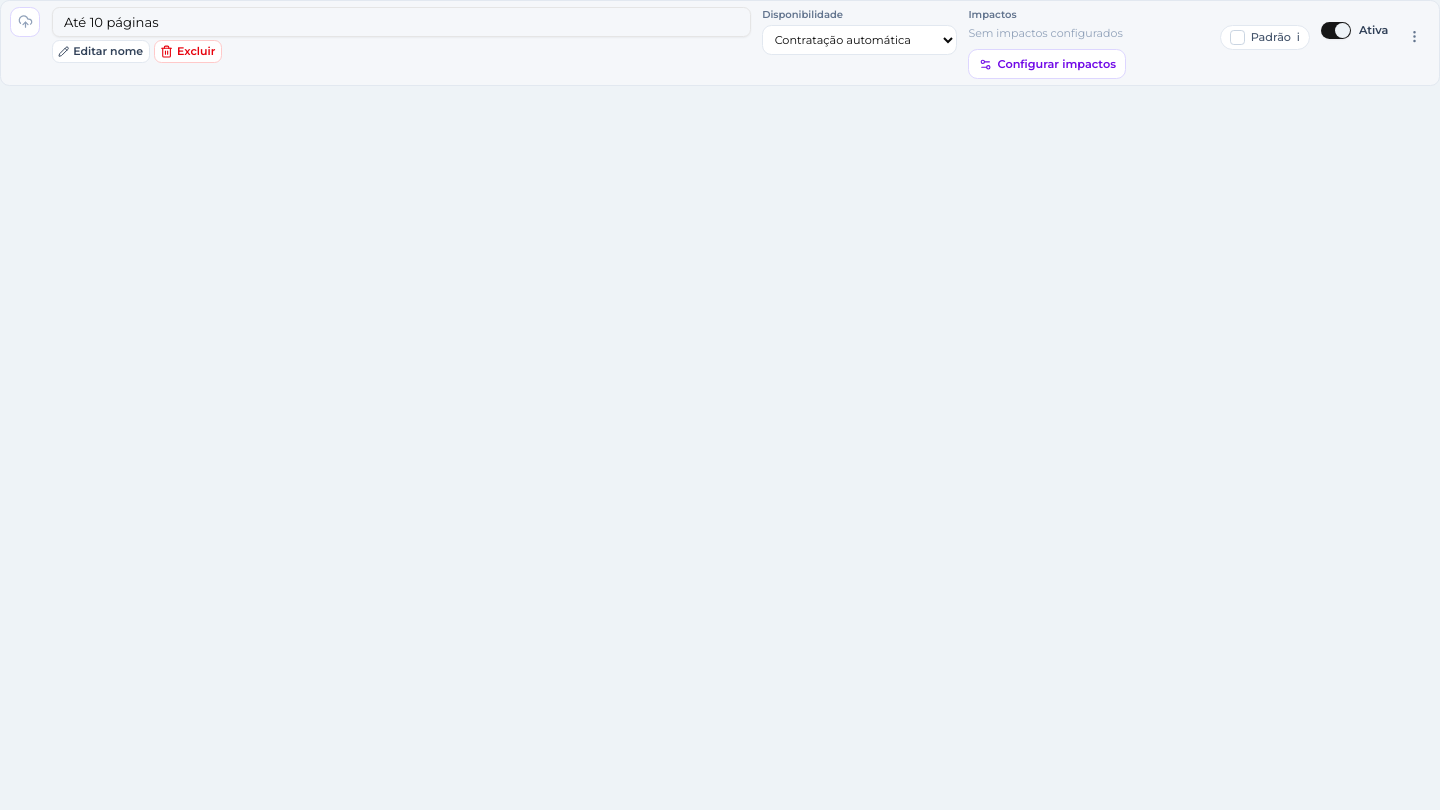
impactos da opção — preço e prazo editáveis a partir do resumo › clicar em Prazo abre a área de impactos com 'Adicionar dias ao prazo' escolhido; salvar grava o impacto da opção
Later steps or results of the test are not shown.
Click the button with test id "option-detail-toggle" at (1047, 64), box top-left (968, 49), bottom-right (1126, 79)
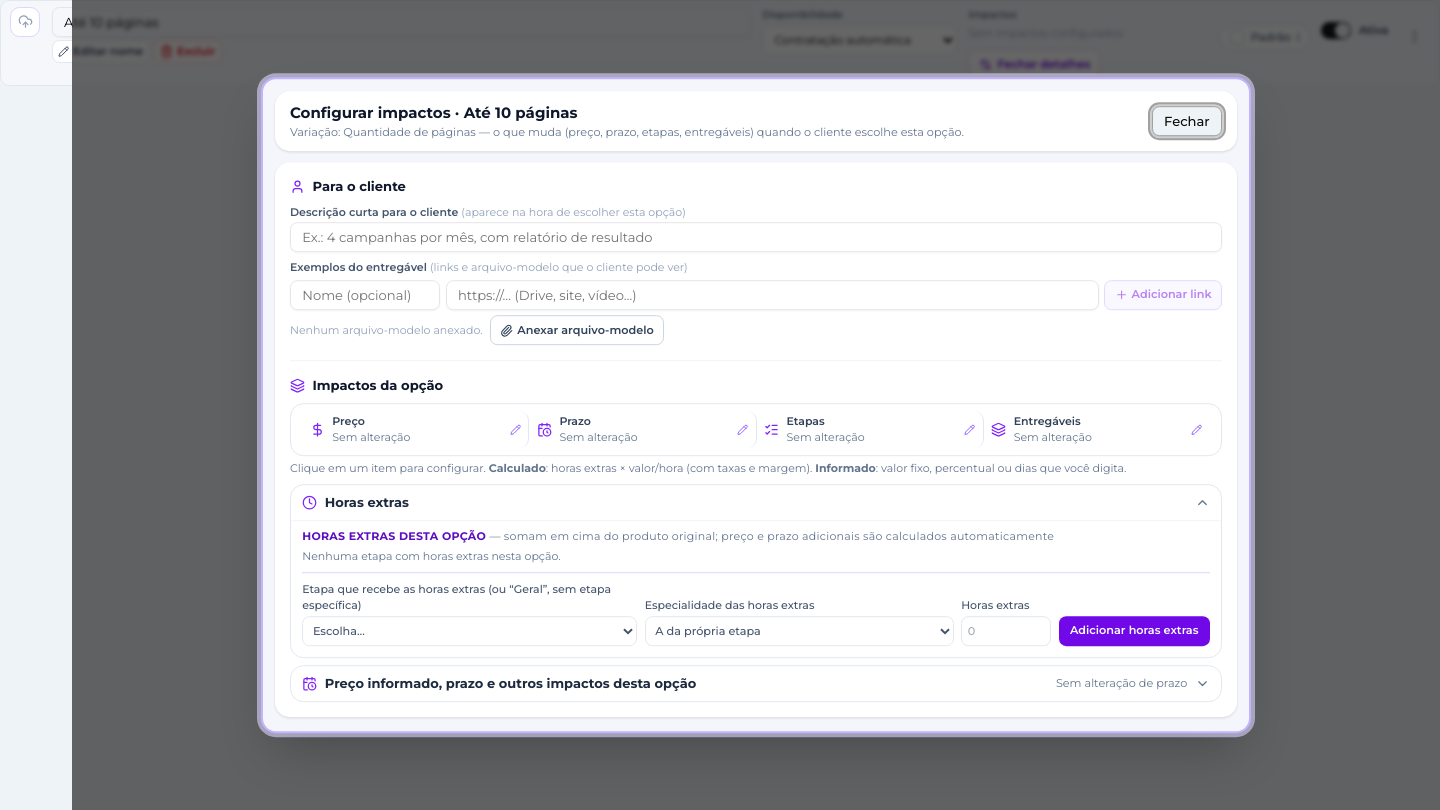
Click the button with test id "impact-pick-deadline" at (643, 430), box top-left (529, 411), bottom-right (756, 448)
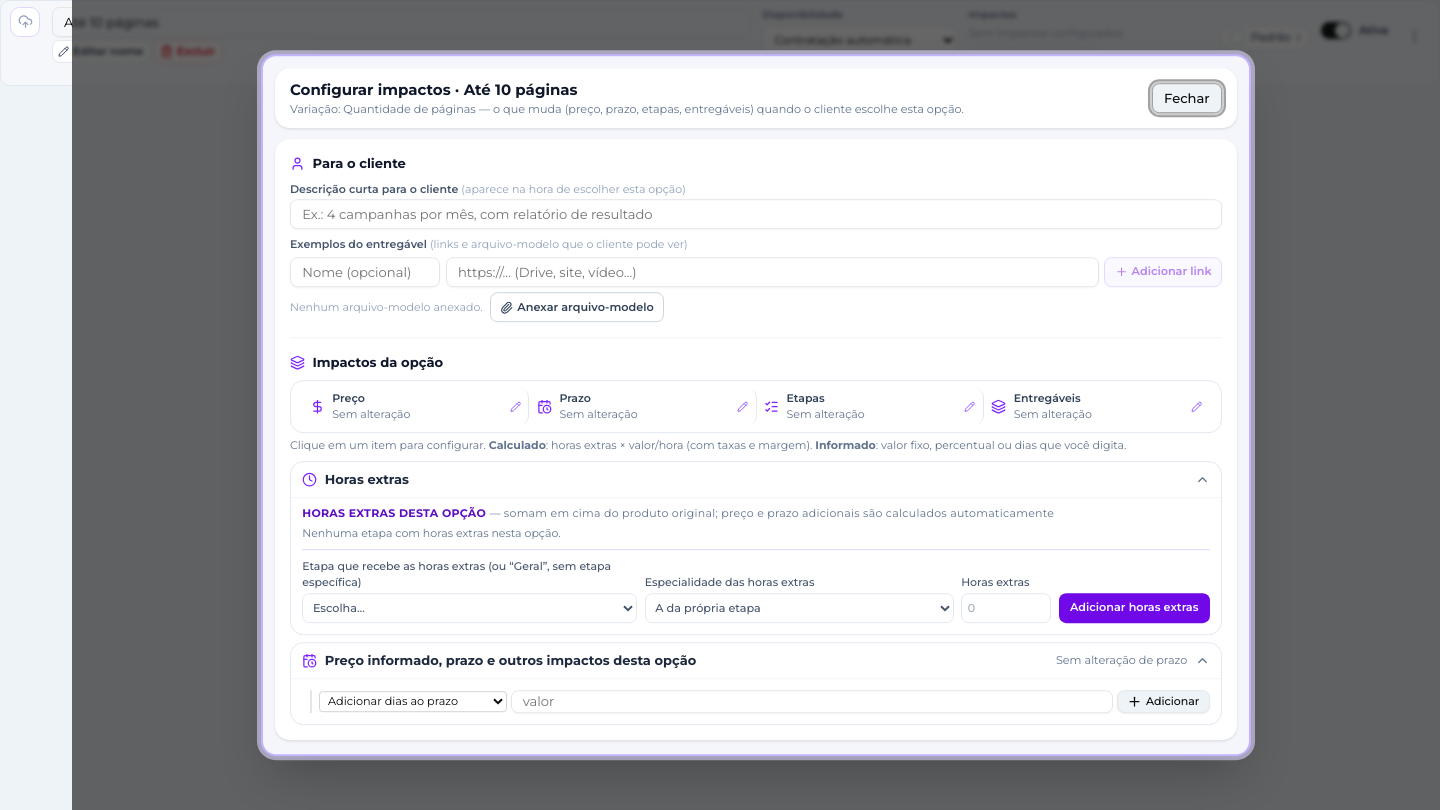
Now the 3rd dropdown shows "Adicionar dias ao prazo", box top-left (319, 691), bottom-right (507, 712)
